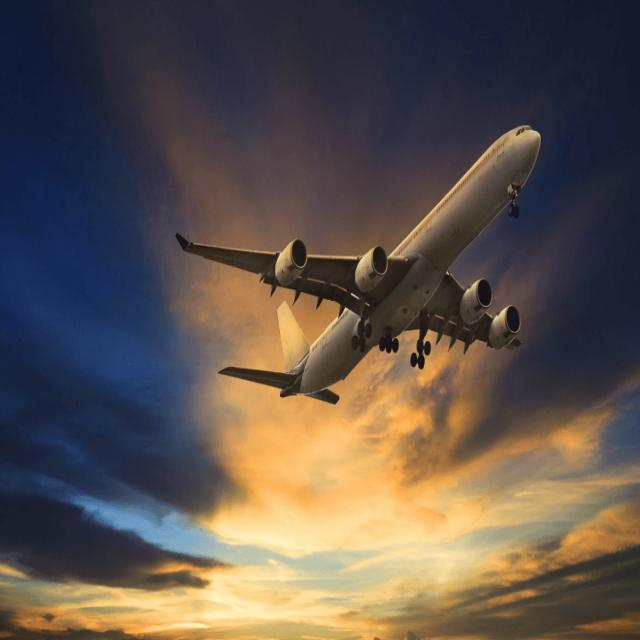plain: (168, 101, 551, 425)
